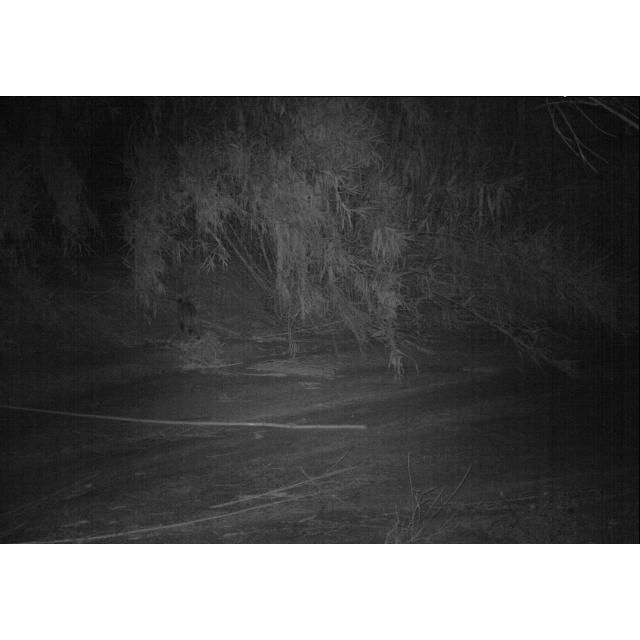animals: (175, 291, 205, 341)
